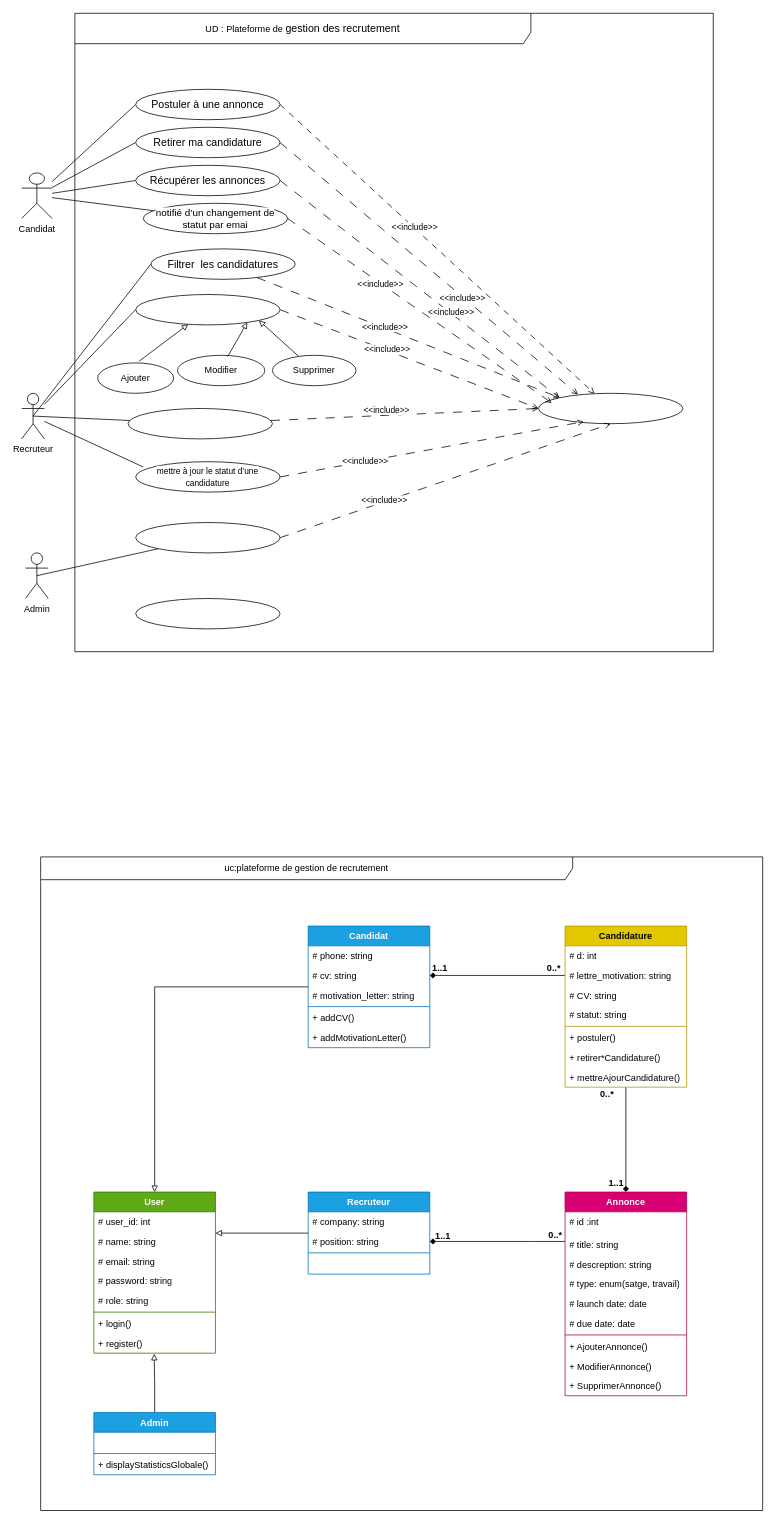
This 776x1524 diagram has some shape labels left out. Each missing label, with the centre of its shape:
Gérer Annonce: (207,309)
obtenir des statistiques globales: (207,537)
Récupérer Les candidatures: (199,423)
S'authentifier: (610,408)
Use Case: (207,613)
